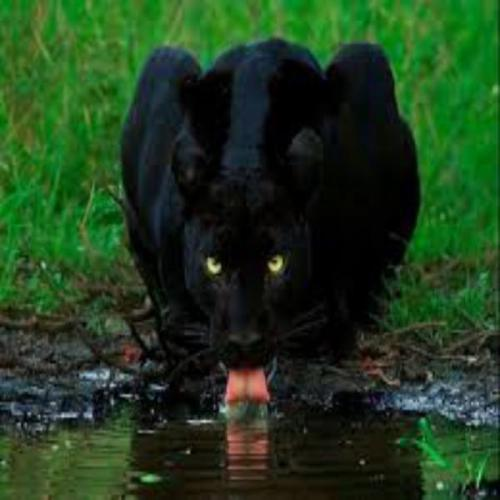panther-endangered: (122, 35, 421, 406)
